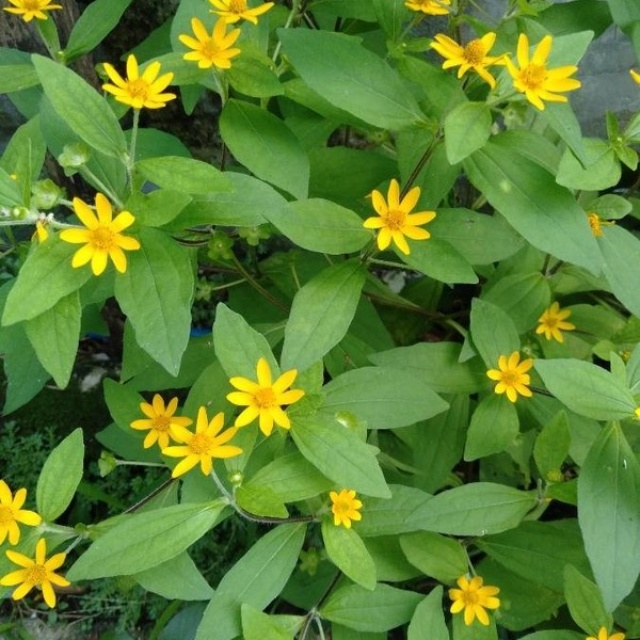obstacle: (61, 49, 615, 585)
